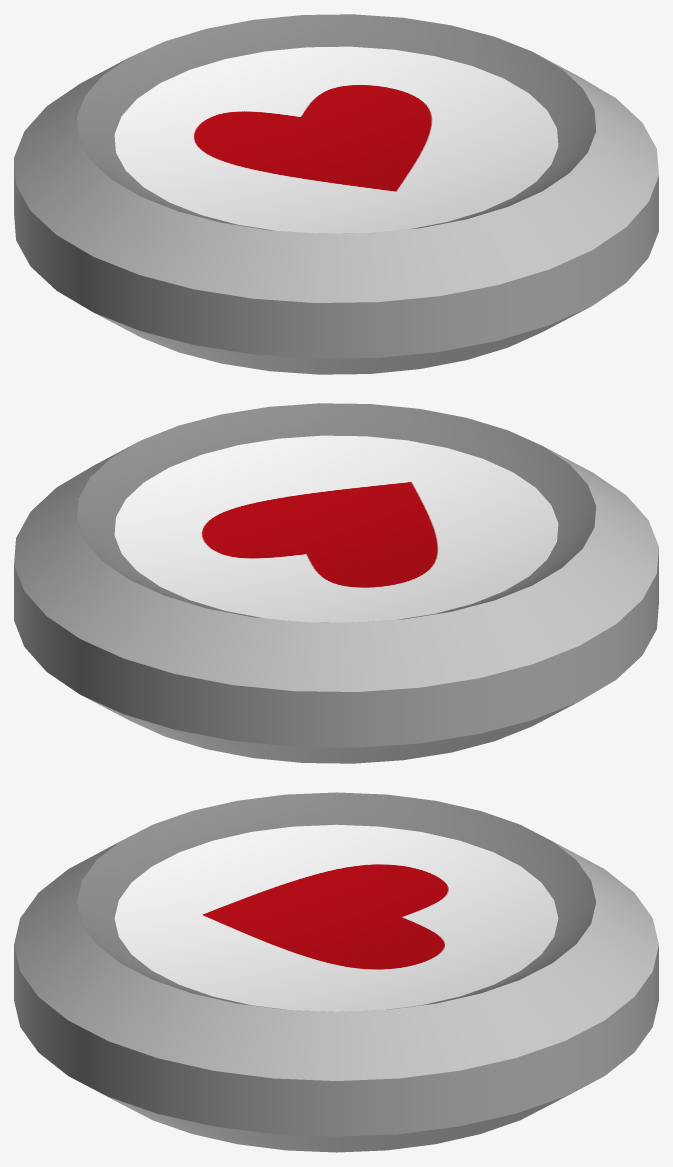
The model's file is HealthPickup.fbx.
3 views of the same model, one above another, from view 1: azimuth 30°, elevation 25°; view 2: azimuth 150°, elevation 25°; view 3: azimuth 270°, elevation 25° (orthographic).
Visible parts, largest first — view 1: HealthPickup; view 2: HealthPickup; view 3: HealthPickup.
Boxes of the visible parts, <box> form: HealthPickup: <box>14,14,658,374</box>; HealthPickup: <box>14,403,658,763</box>; HealthPickup: <box>14,792,658,1152</box>.
Bounding box in the file's own units: 9933 × 2388 × 9933.
